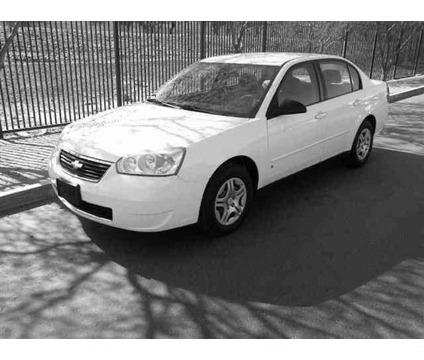car: (26, 39, 402, 250)
